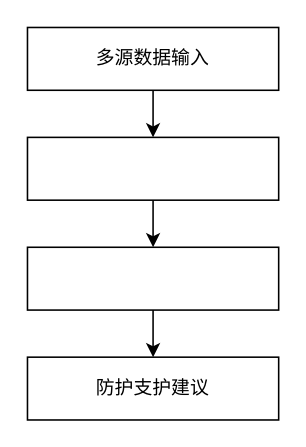
Some shapes in this 306 by 447 pixel diagram are drawn without their labels. The box of each missing label's shape, as (x1, y1, x2, y2) in pixels:
岩爆孕育机理解析: (26, 136, 279, 200)
岩爆等级-区域-类型预警: (26, 246, 279, 310)
